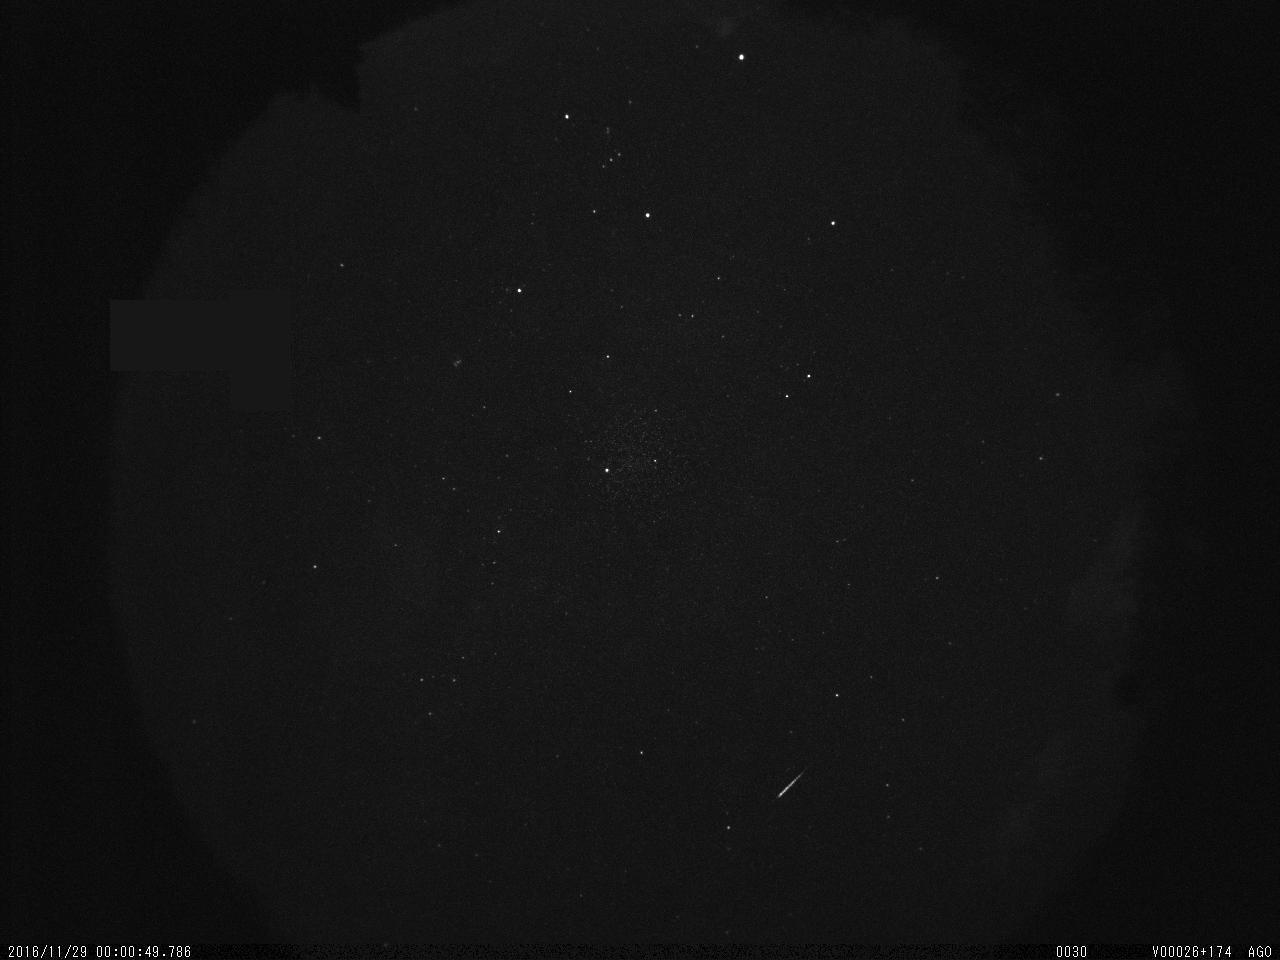Meteor: (768, 760, 809, 807)
